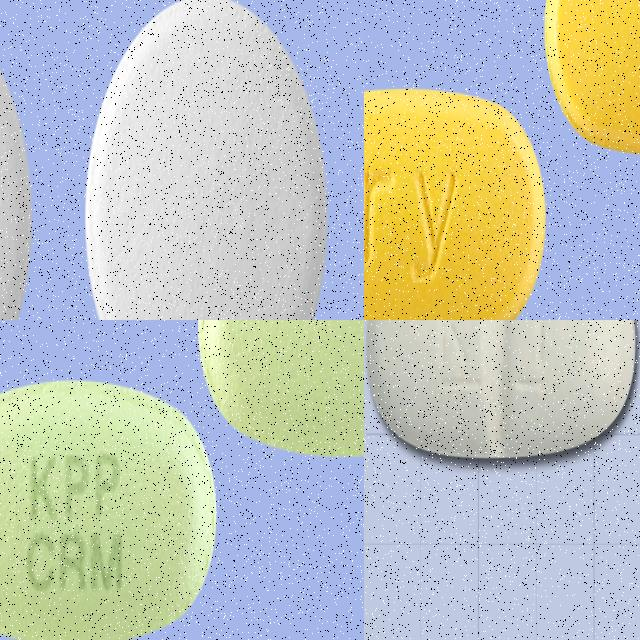Amocla Duo500mg: (366, 320, 638, 464)
Ciprocell: (83, 0, 331, 320)
Clarithromycin Tab- Reyon: (364, 86, 546, 320)
Crema: (0, 381, 217, 640), (197, 320, 364, 452)
